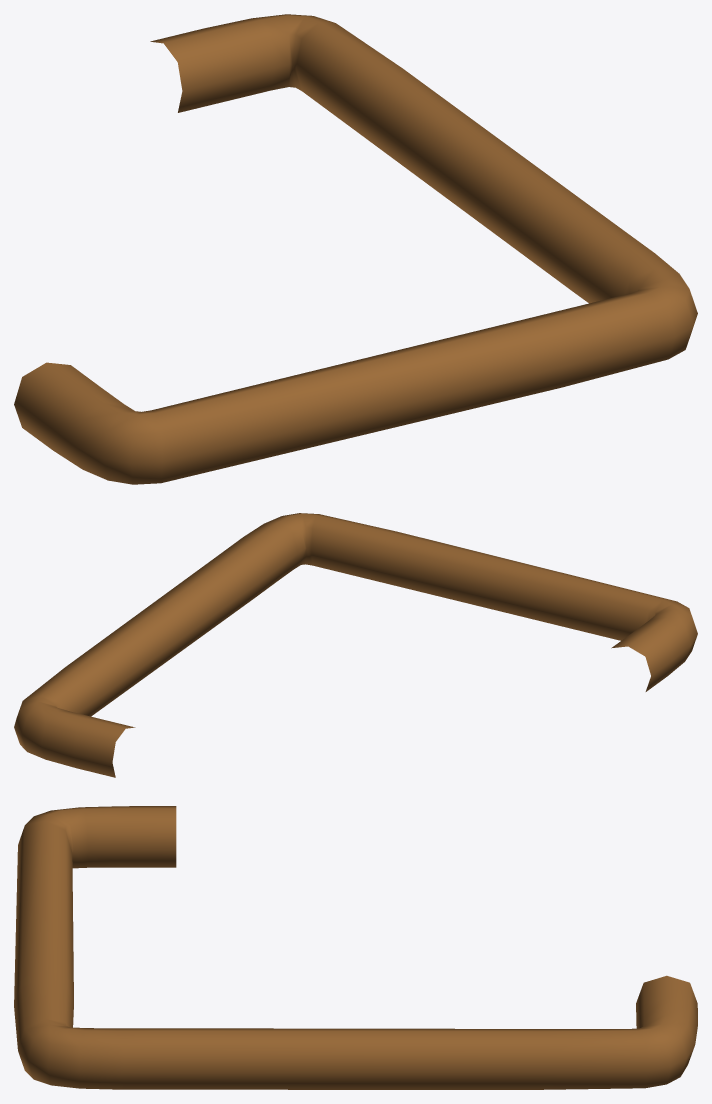
Rendered from quaternius-cyberpunk-pipe-corner.glb.
3 views of the same model, one above another, from view 1: azimuth 30°, elevation 25°; view 2: azimuth 150°, elevation 25°; view 3: azimuth 270°, elevation 25° (orthographic). The views are drawn at different scales.
Parts seen in each view (by area): view 1: Pipe_Corner; view 2: Pipe_Corner; view 3: Pipe_Corner.
Part boxes in pixels (x1,y1,x2,y2): Pipe_Corner: (14,14,697,484); Pipe_Corner: (14,513,697,777); Pipe_Corner: (14,806,697,1089).
Bounding box in the file's own units: 2 × 0.2121 × 2.33.
